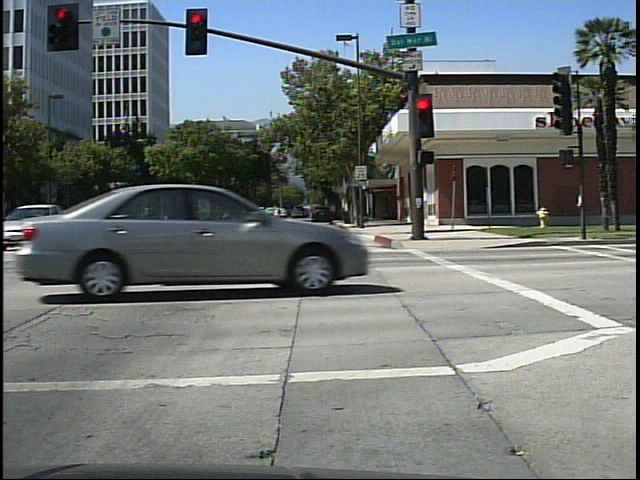person: (273, 204, 286, 223)
